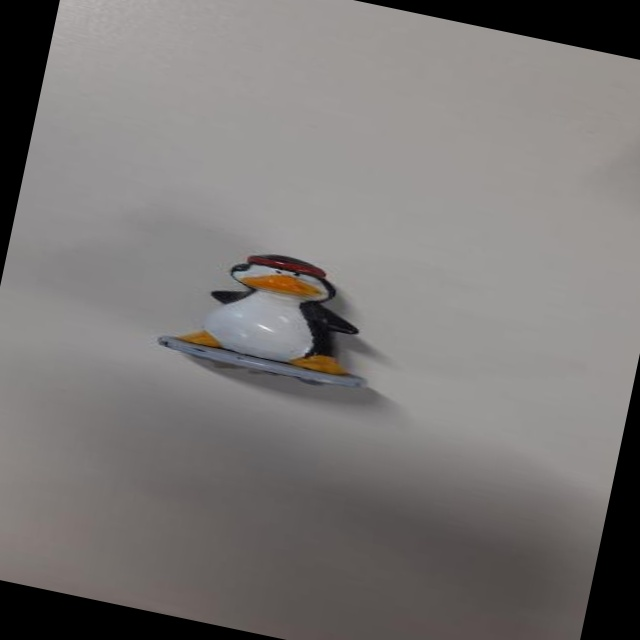Penguin: (127, 191, 420, 418)
